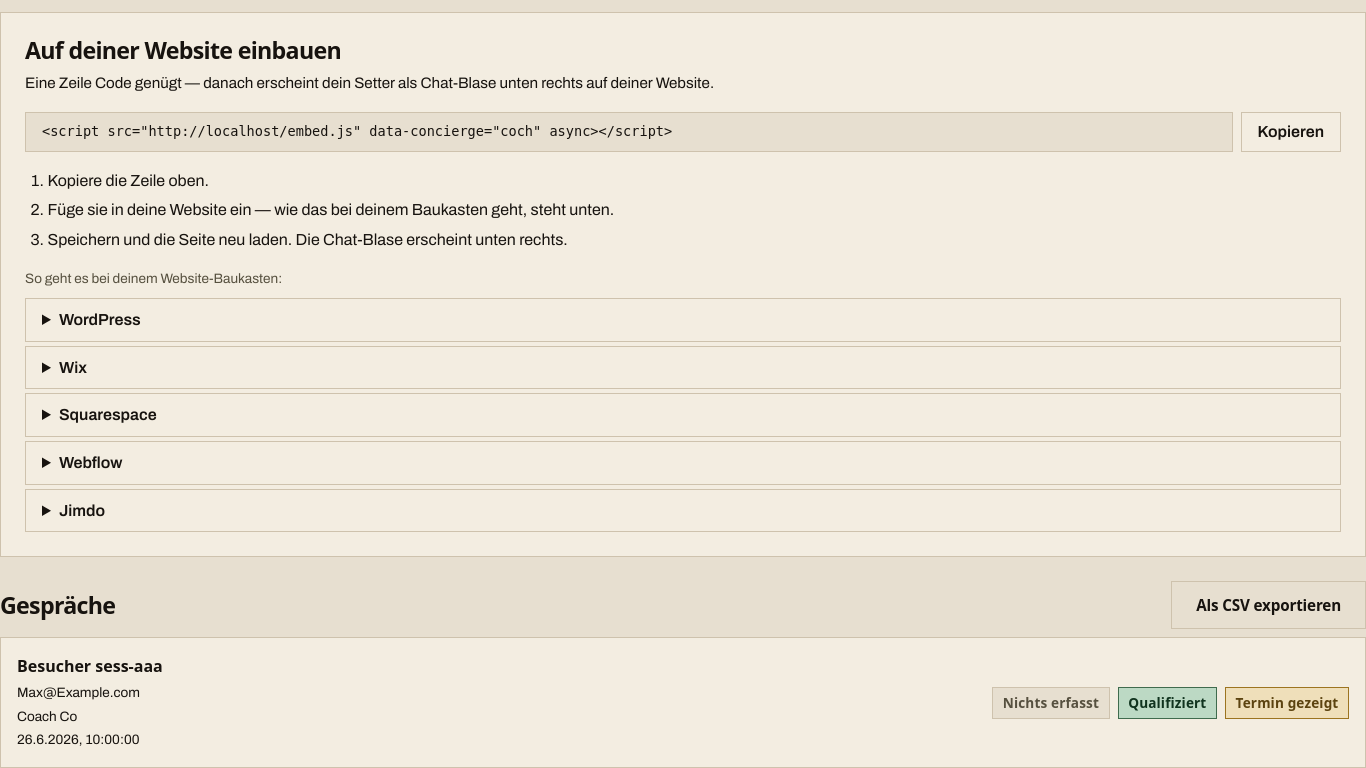
Test: ConciergeChatsPage › says nothing is recorded when the address never consented
(page scrolled)
Expected: the text "Nichts erfasst" is shown, [992, 687, 1110, 719]
Click the button "sess-aaa": (683, 703) [0, 637, 1365, 767]
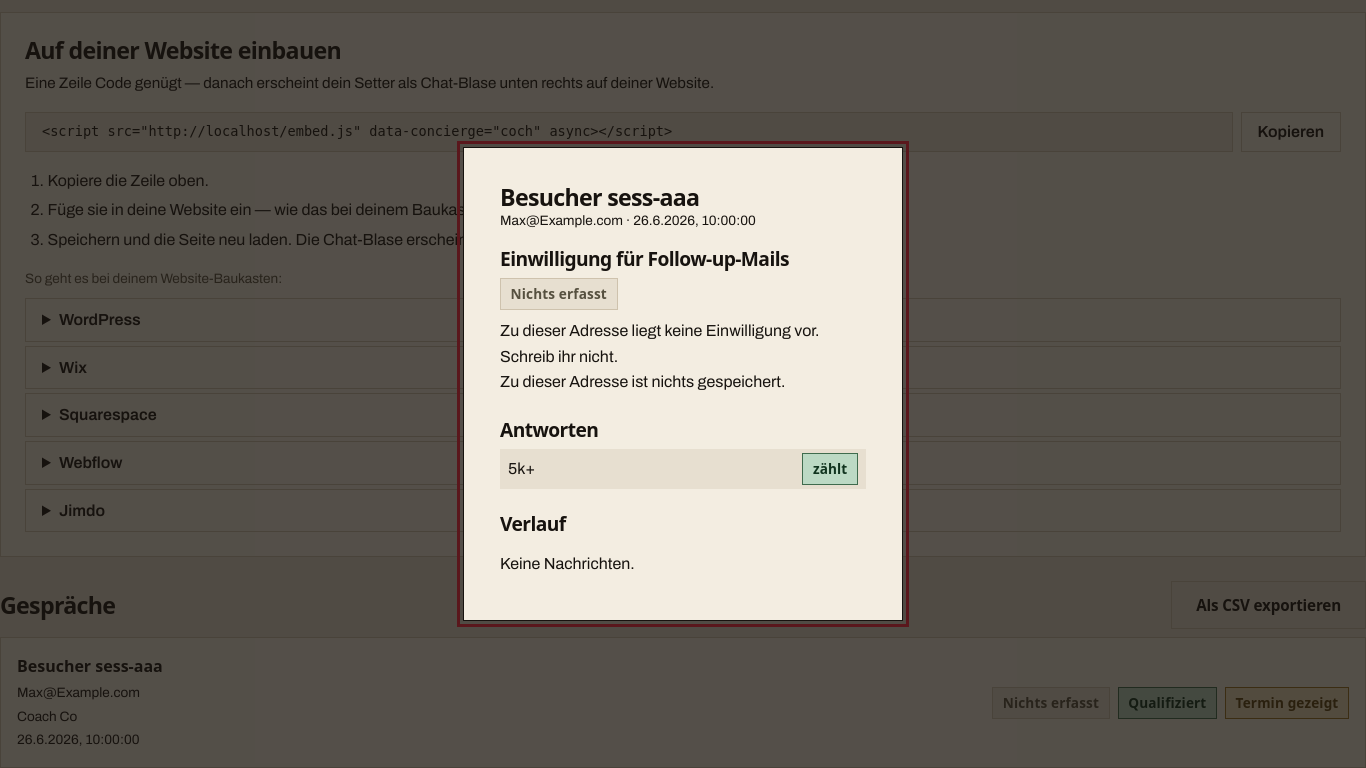
Result: the text "keine Einwilligung vor" is shown at [500, 322, 819, 365]
